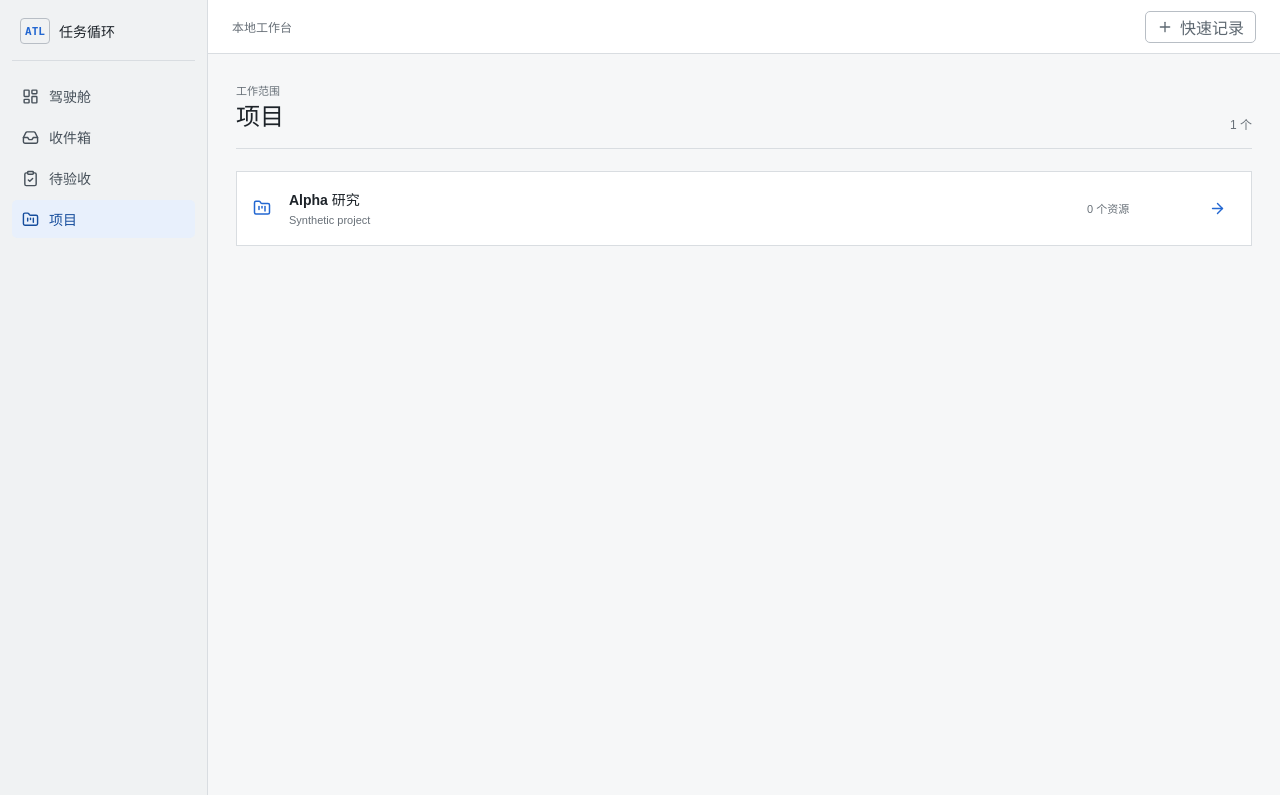
Test case: page data states › opens a project board with all status columns and read-only filters
The width and height of the screenshot is (1280, 795).
Step 1. Click the link named "打开 Alpha 研究 看板" → click(1217, 208), box left=1208, top=200, right=1226, bottom=217
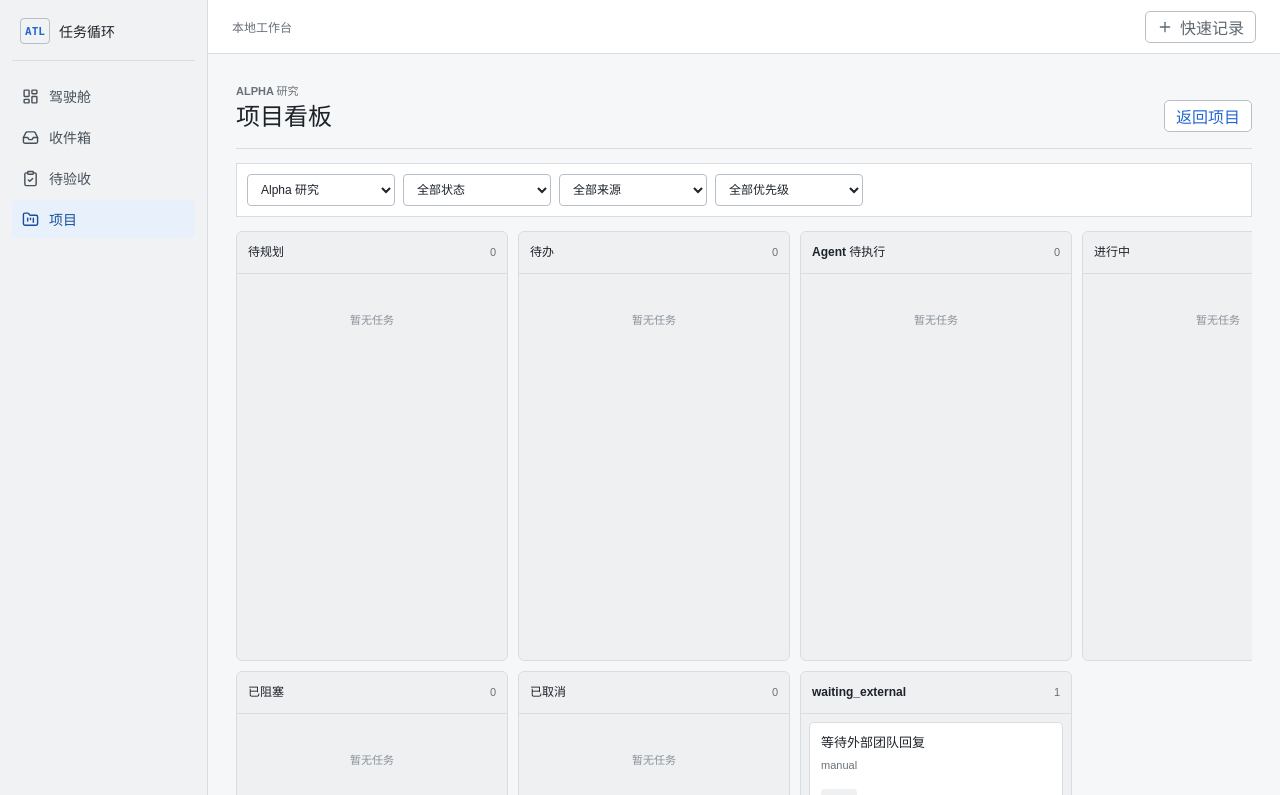
Result: the heading "项目看板" is shown at left=236, top=103, right=332, bottom=132
Result: the heading "待规划" is shown at left=248, top=244, right=284, bottom=260
Result: the heading "待办" is shown at left=530, top=244, right=554, bottom=260
